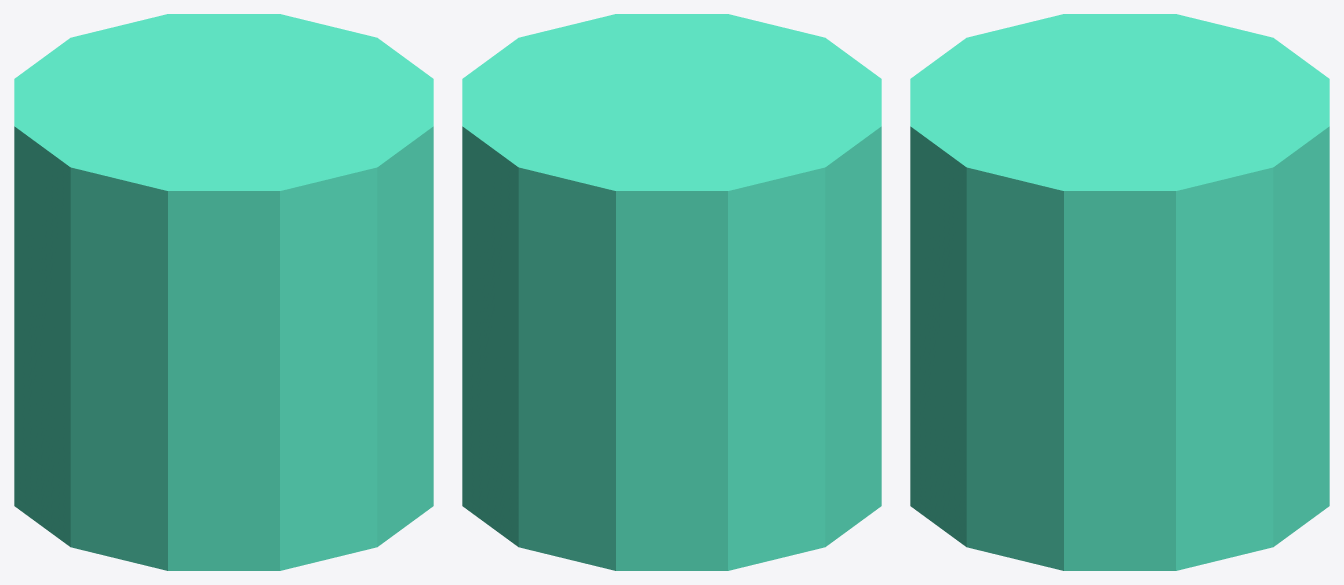
File: blade.obj
The picture shows the model from 3 angles, left to right: view 1: azimuth 30°, elevation 25°; view 2: azimuth 150°, elevation 25°; view 3: azimuth 270°, elevation 25°; orthographic projection.
Visible parts, largest first — view 1: cylinder; view 2: cylinder; view 3: cylinder.
Part boxes in pixels (x1,y1,x2,y2): cylinder: (14, 14, 433, 570); cylinder: (462, 14, 881, 570); cylinder: (910, 14, 1329, 570).
Size of the model in its own units: 1 by 1 by 1.
